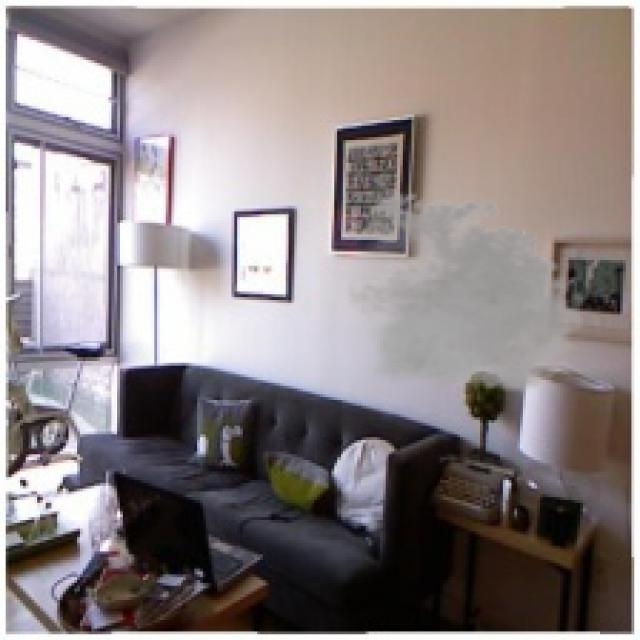smoke: (332, 186, 592, 400)
